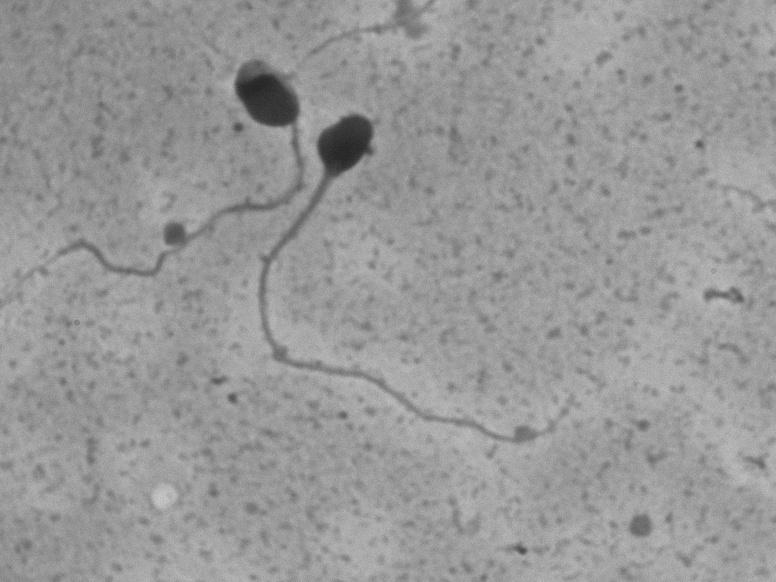Abnormal: (193, 93, 595, 470), (46, 44, 318, 298)
